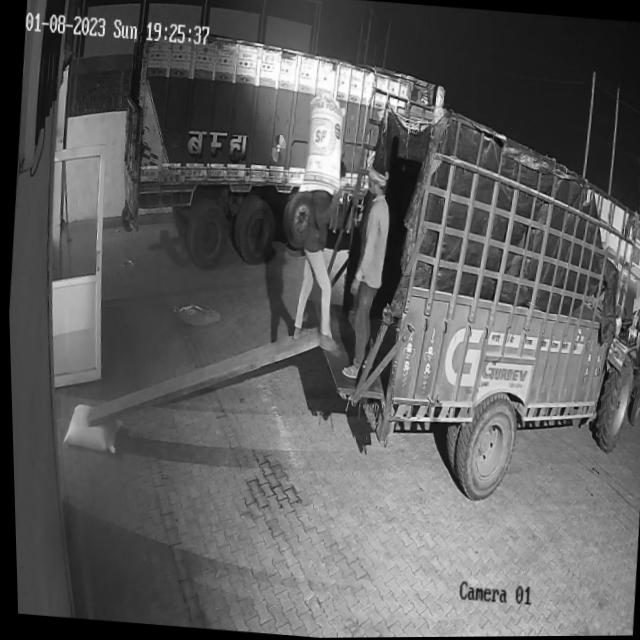sack: (294, 92, 347, 197), (59, 402, 119, 453)
